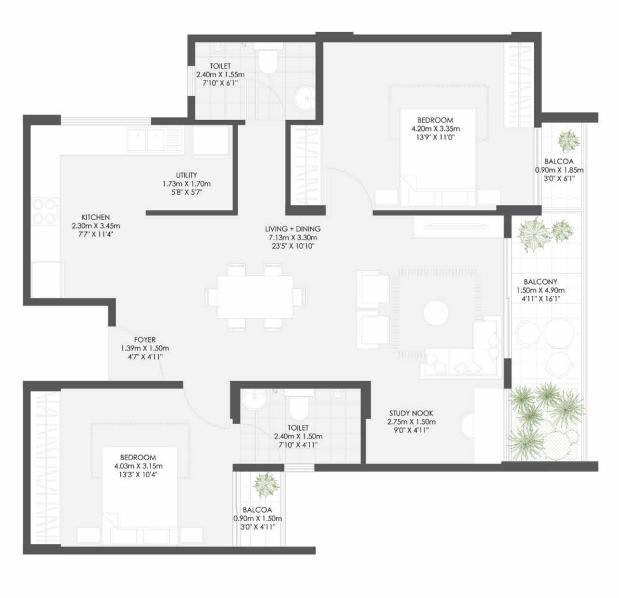Balcony: (510, 215, 583, 465)
Bed: (397, 107, 477, 207), (101, 445, 176, 547)
Bedroom: (322, 36, 533, 205), (30, 387, 236, 545)
Dining Room: (190, 222, 343, 380)
Dining table: (203, 256, 312, 334)
Foyer: (108, 328, 337, 381)
Kitchen: (31, 122, 145, 296)
Living Room: (345, 220, 505, 383)
Sofa: (356, 272, 389, 350), (419, 350, 500, 377), (474, 315, 502, 377)
Wardrobe: (28, 386, 63, 545), (501, 38, 535, 134), (294, 126, 320, 205)
balcoa: (539, 117, 583, 208), (240, 474, 283, 546)
commode: (258, 48, 278, 75), (288, 396, 309, 420)
door: (181, 383, 232, 430), (323, 165, 373, 207), (234, 424, 281, 466), (241, 80, 287, 121)
sink: (124, 129, 184, 153), (240, 390, 271, 412), (297, 86, 316, 109)
stove: (31, 199, 61, 229)
study: (370, 382, 505, 466)
toilet: (192, 38, 315, 122), (238, 389, 365, 470)
tv: (412, 221, 502, 240)
utility: (146, 127, 235, 215)
